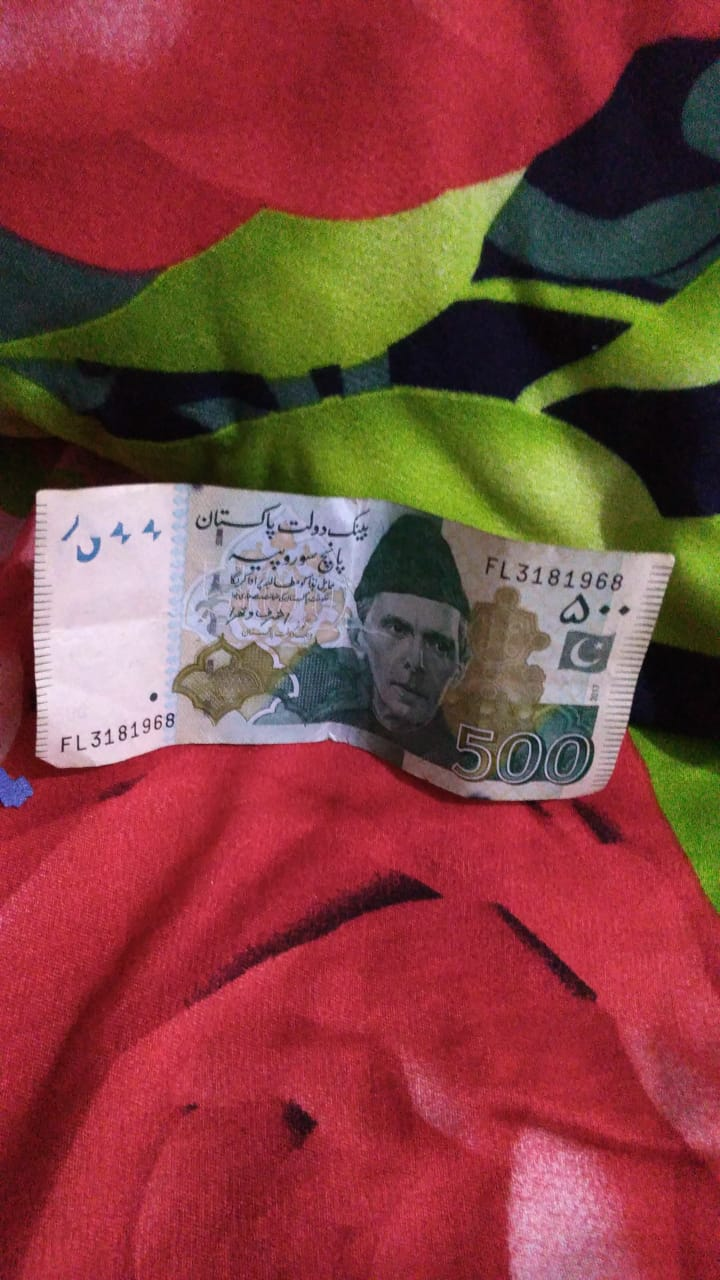500 rupee: (20, 471, 665, 858)
